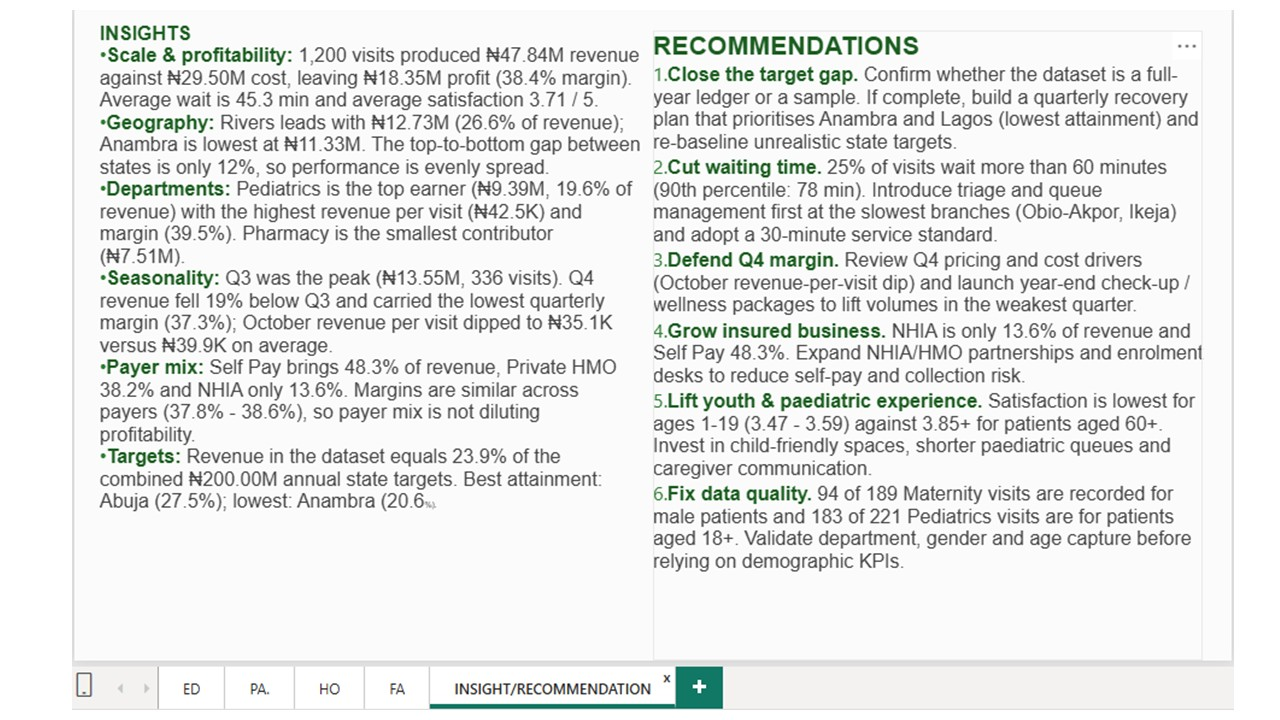

The page's visual inventory and layout, read from the dashboard file:
{"tool":"powerbi","page":{"name":"INSIGHT/RECOMMENDATION","canvas":[1920,1080],"ordinal":4},"visuals":[{"type":"textbox","box":[41.2,35.3,897.4,920],"z":0},{"type":"textbox","box":[958.3,35.3,928.8,920],"z":1000}]}

Visuals, with their boxes on the page's 1920x1080 design canvas (x1, y1, x2, y2). These are canvas units, not pixel positions in the 1280x720 screenshot, which may show the page scaled, cropped or inside an application window:
textbox: 41, 35, 939, 955
textbox: 958, 35, 1887, 955
